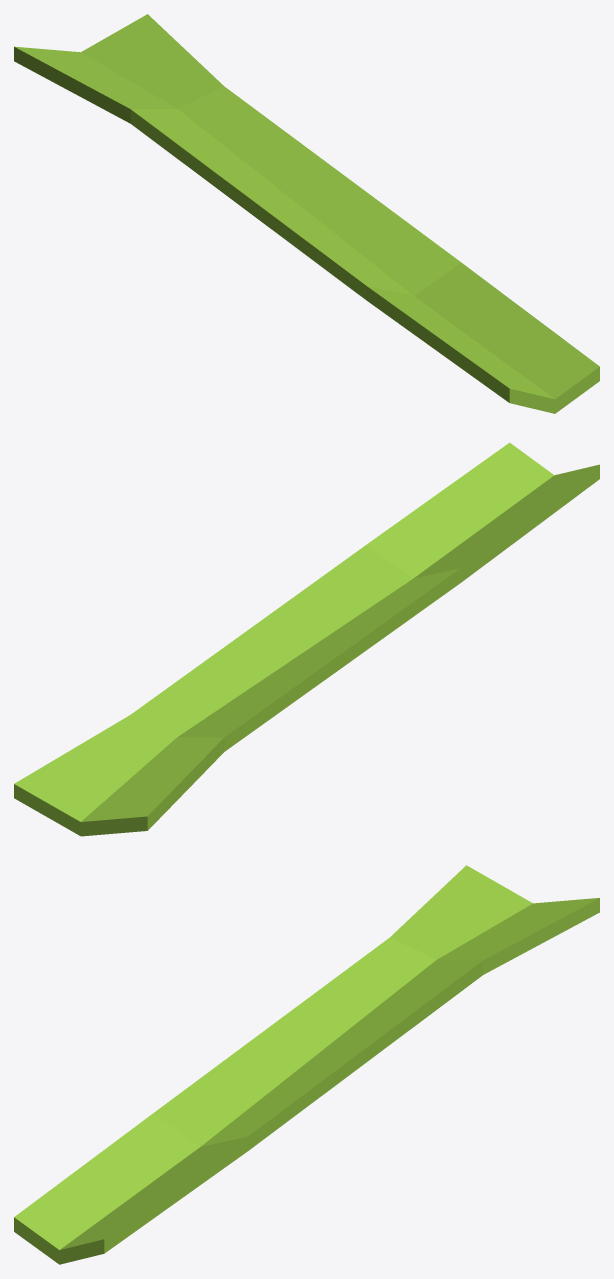
File: Celery.fbx
3 renders of one model, top to bottom at view 1: azimuth 30°, elevation 25°; view 2: azimuth 150°, elevation 25°; view 3: azimuth 330°, elevation 25°, orthographic.
Parts seen in each view (by area): view 1: Celery; view 2: Celery; view 3: Celery.
Boxes of the visible parts, box(x1,y1,x2,y2) form: Celery: box(14, 14, 599, 413); Celery: box(14, 442, 599, 836); Celery: box(14, 865, 599, 1264).
Size of the model in its own units: 3.19 by 0.9087 by 19.62.
